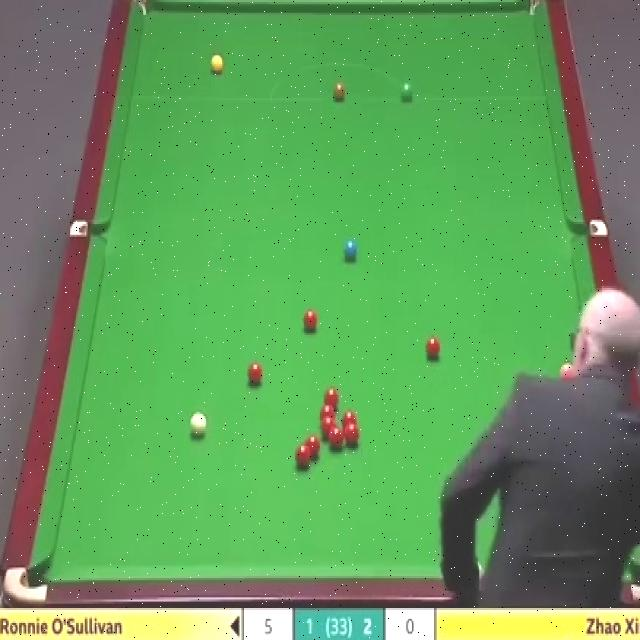blue-ball: (342, 238, 358, 260)
brown-ball: (332, 81, 346, 102)
green-ball: (401, 83, 413, 101)
pink-ball: (559, 360, 576, 388)
red-ball: (246, 360, 264, 390), (294, 444, 312, 470), (541, 386, 559, 412), (305, 437, 323, 462), (571, 400, 589, 424), (344, 423, 360, 449), (426, 335, 441, 361), (302, 310, 319, 332), (329, 426, 344, 450), (322, 388, 340, 405), (321, 418, 335, 438), (320, 403, 334, 421), (342, 412, 357, 427)
white-ball: (190, 413, 208, 440)
yellow-ball: (211, 55, 225, 76)
